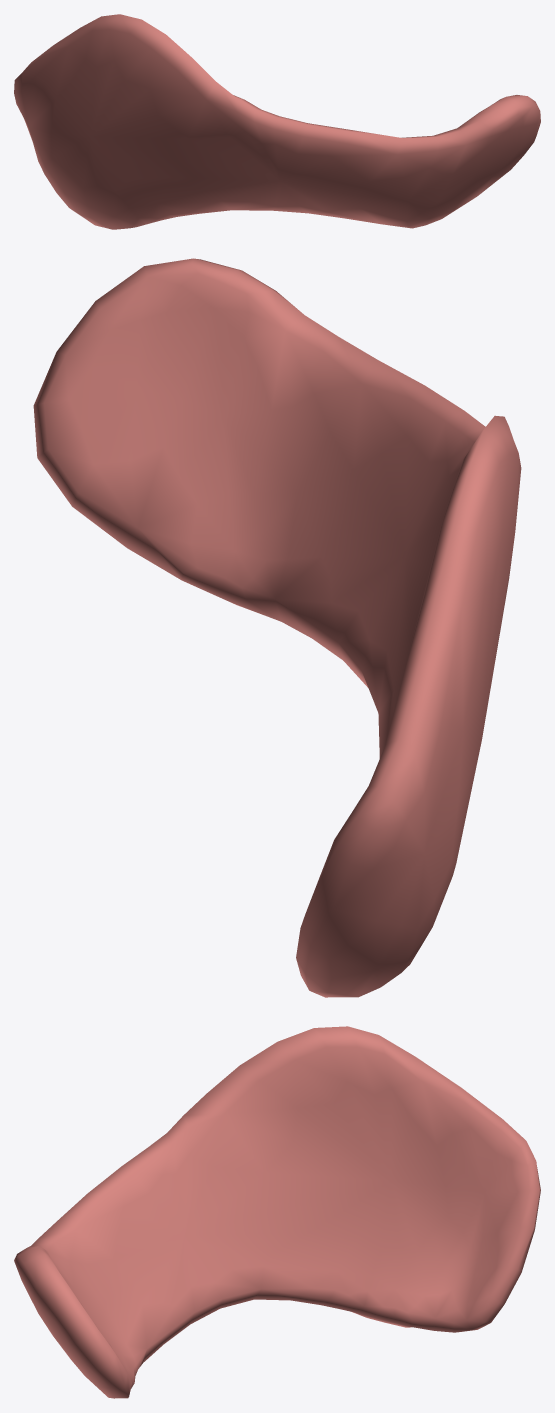
3 views of the same model, one above another, from view 1: azimuth 30°, elevation 25°; view 2: azimuth 150°, elevation 25°; view 3: azimuth 270°, elevation 25° (orthographic). The views are drawn at different scales.
Visible parts, largest first — view 1: ZA_d3cd99d302ae61d4; view 2: ZA_d3cd99d302ae61d4; view 3: ZA_d3cd99d302ae61d4.
Boxes of the visible parts, left/top/right/bottom form: ZA_d3cd99d302ae61d4: left=14, top=14, right=540, bottom=229; ZA_d3cd99d302ae61d4: left=33, top=258, right=521, bottom=997; ZA_d3cd99d302ae61d4: left=14, top=1026, right=540, bottom=1398.
Bounding box in the file's own units: 0.00722 × 0.00474 × 0.00758.
